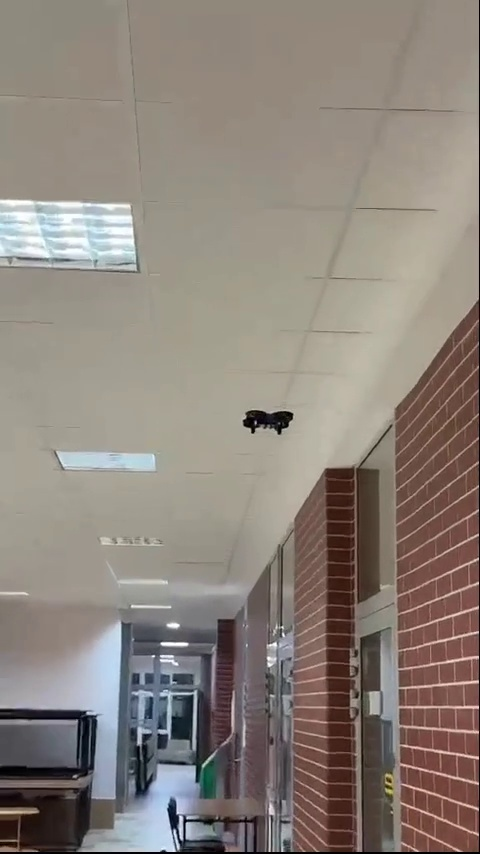drone: (240, 410, 294, 434)
